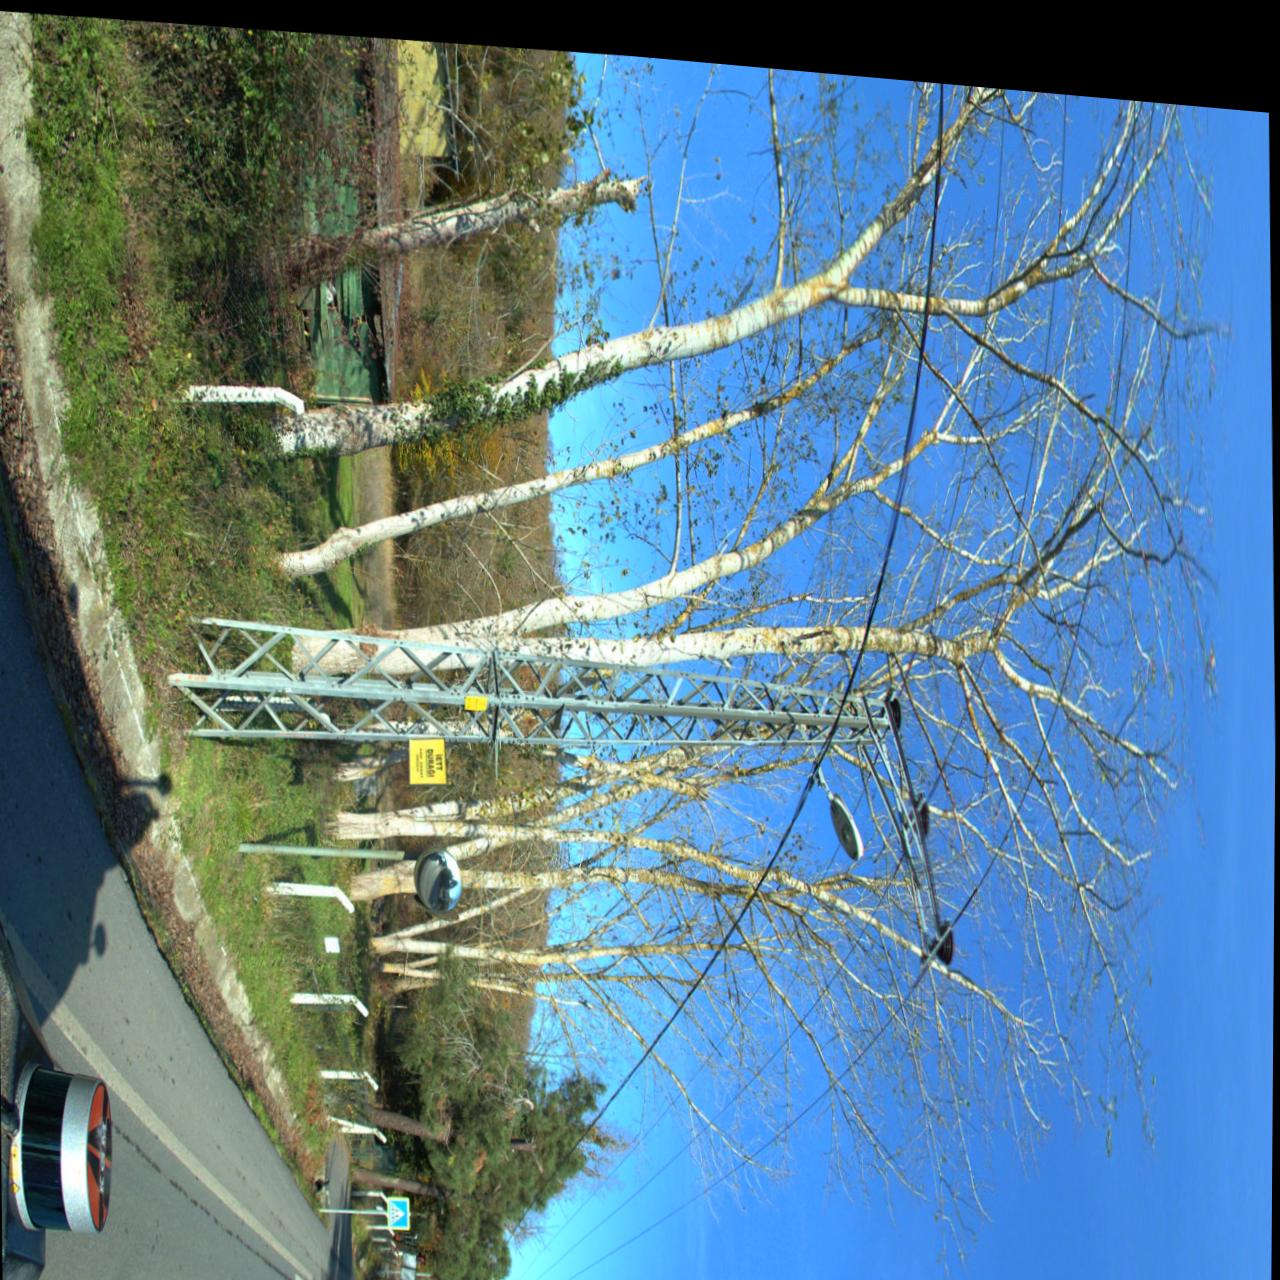Utility Pole Information Plate: (464, 687, 489, 703)
